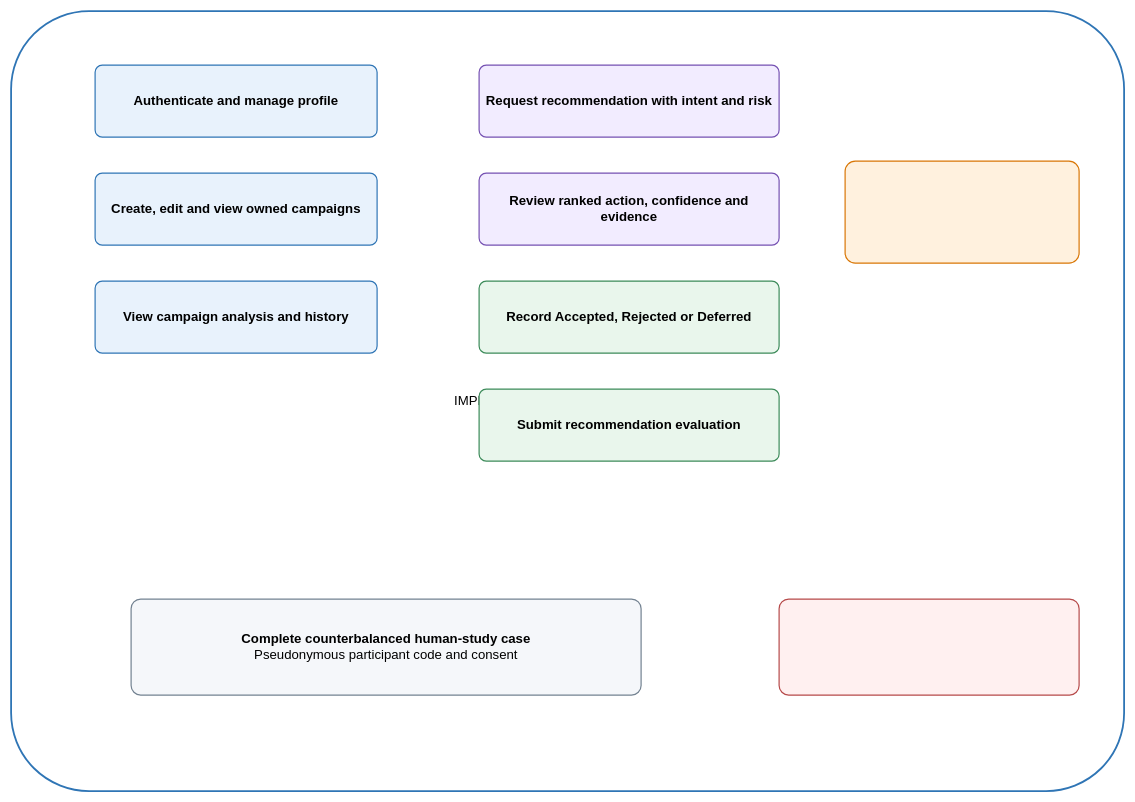
The diagram is 1135 pixels wide and 802 high, and some of its shapes have lost their labels. Here are the shapes that lost their labels. From the top down, the box of each, then its label:
(844, 160, 1079, 263): Manage weighted rules Administrator role required
(778, 598, 1079, 695): Excluded capability No automatic marketing-platform or budget execution
